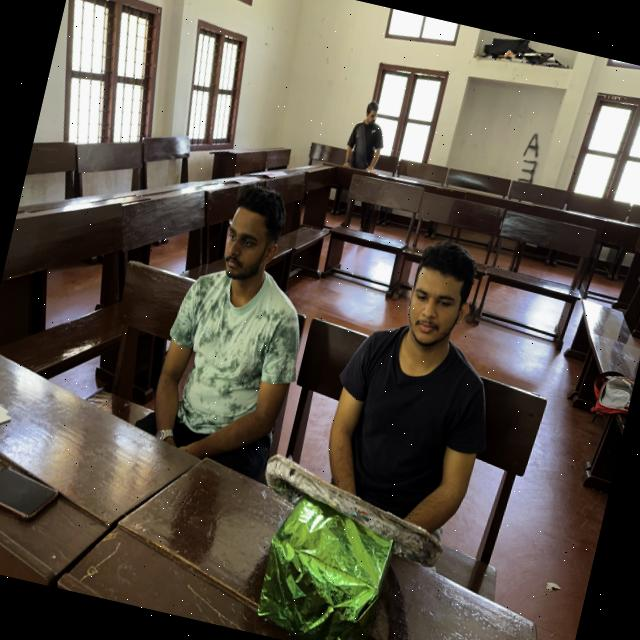Helmet: (297, 322, 503, 571), (130, 261, 312, 498)
